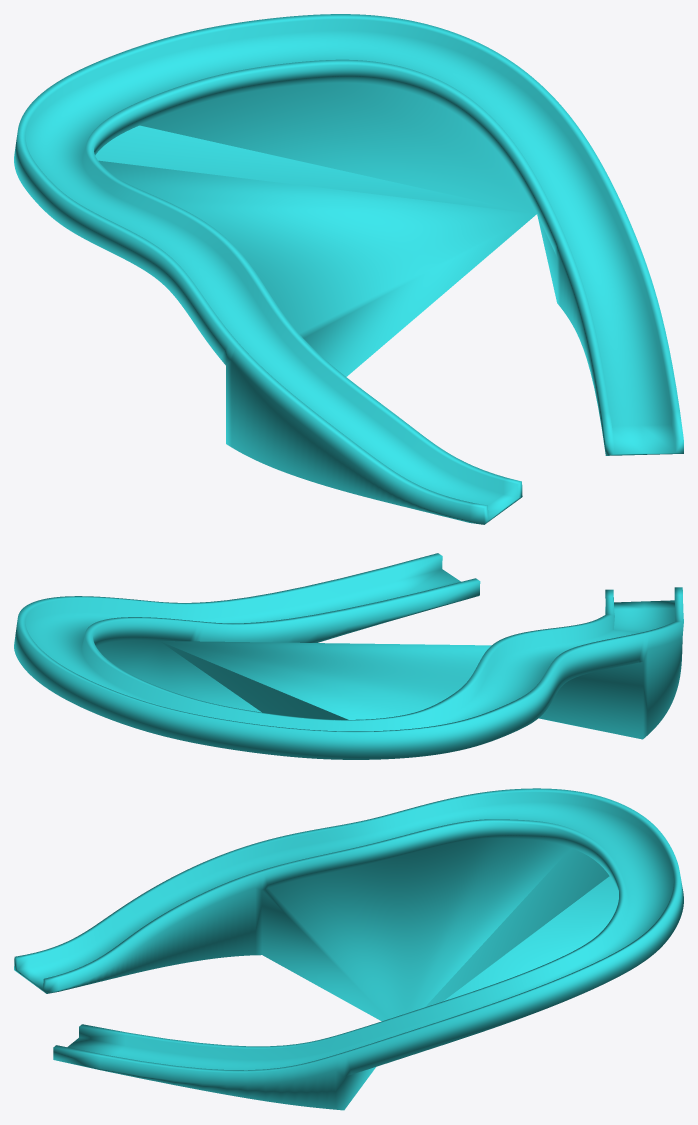
Rendered from Slide new.fbx.
3 views of the same model, one above another, from view 1: azimuth 30°, elevation 25°; view 2: azimuth 150°, elevation 25°; view 3: azimuth 270°, elevation 25° (orthographic). The views are drawn at different scales.
Visible parts, largest first — view 1: NurbsPath.002; view 2: NurbsPath.002; view 3: NurbsPath.002.
Part boxes in pixels (left/top/right/bottom): NurbsPath.002: left=14, top=14, right=683, bottom=524; NurbsPath.002: left=14, top=553, right=683, bottom=759; NurbsPath.002: left=14, top=788, right=683, bottom=1110.
Bounding box in the file's own units: 2335 × 742 × 3321.
